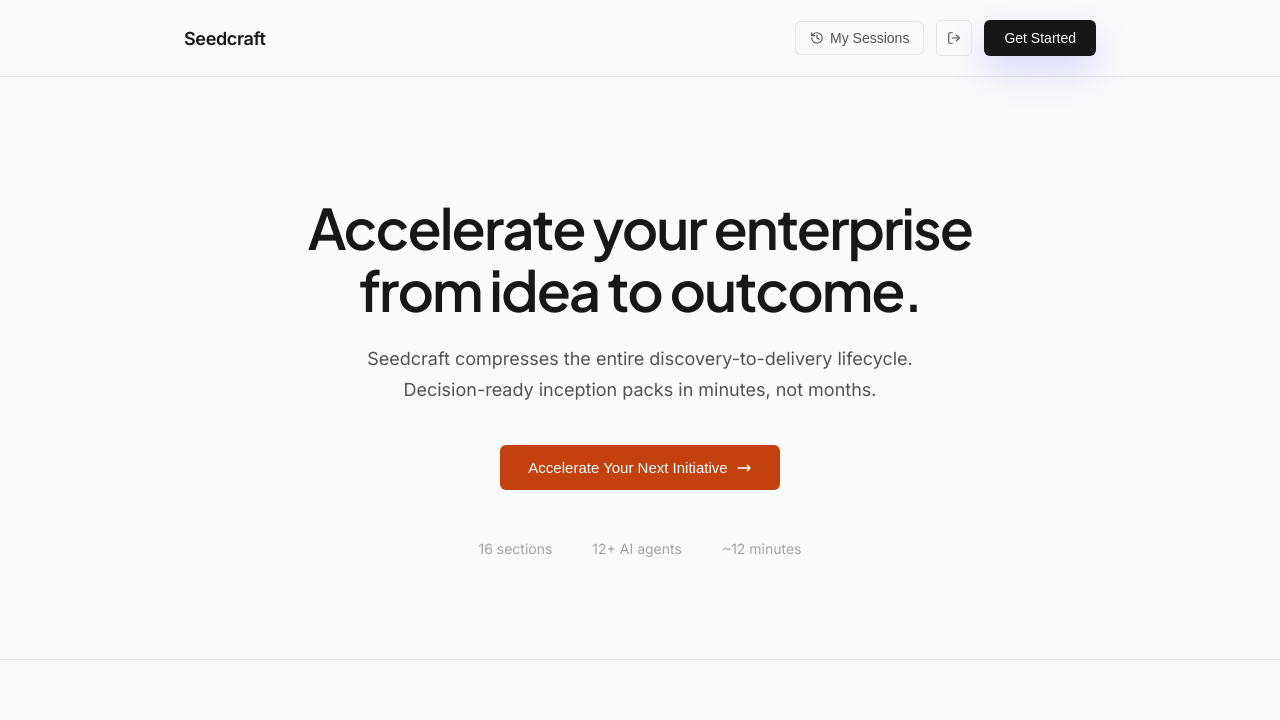
Scenario: App – Session History integration › opens completed session pack in result view
Navigate to sessions
Click the button "My Sessions": (860, 38) [795,21,924,55]
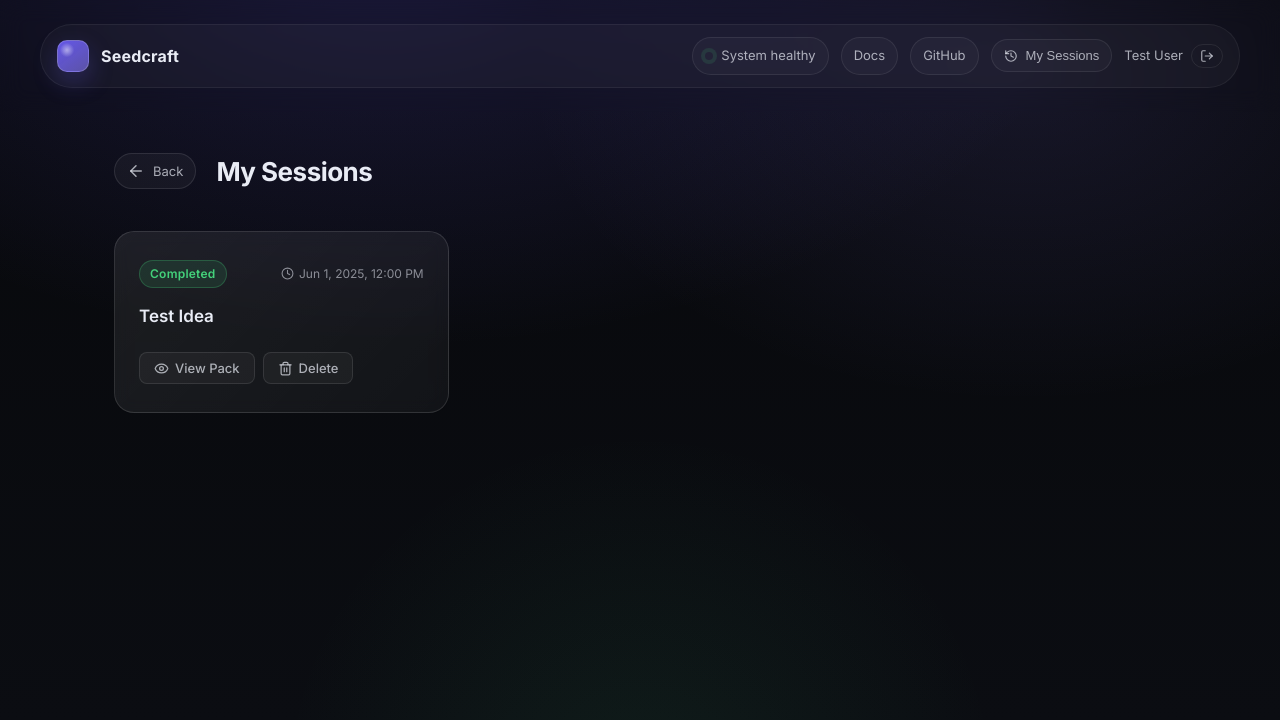
Check: the heading "Test Idea" is shown, box [139,306,214,326]
Click View Pack
Click the button "View Pack": (197, 368) [139,352,255,384]
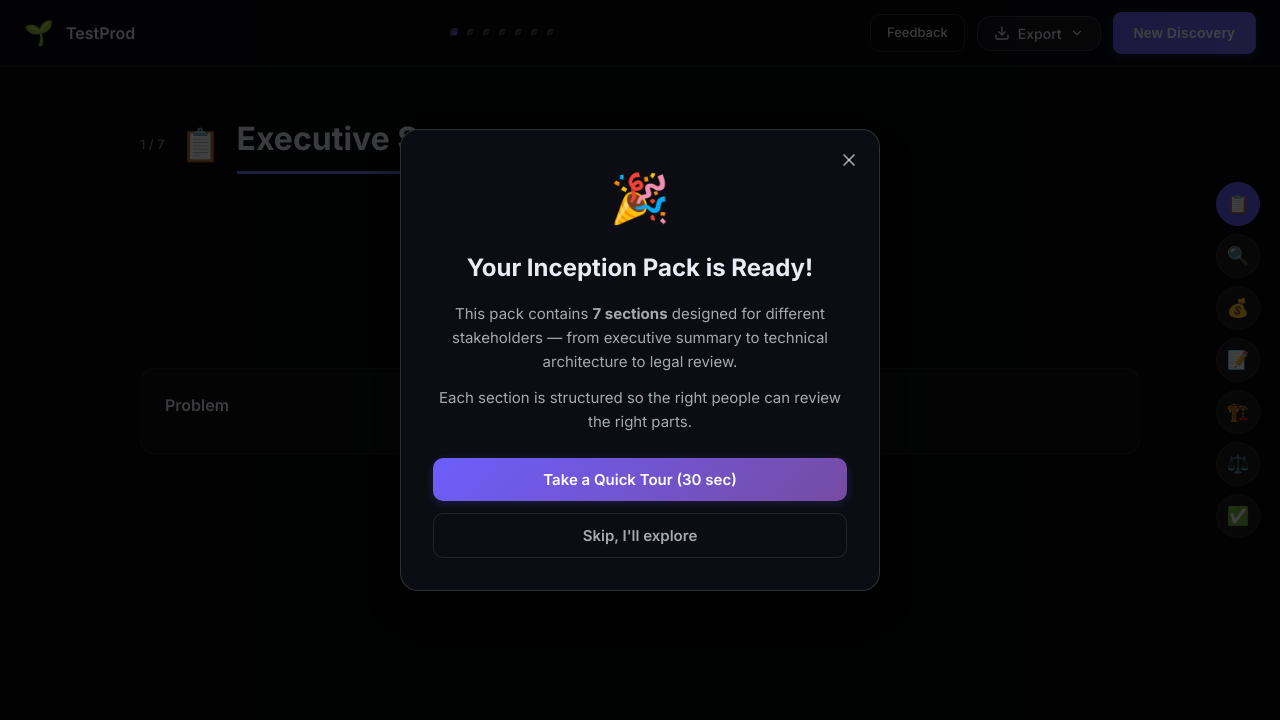
Check: the button "My Sessions" is gone
